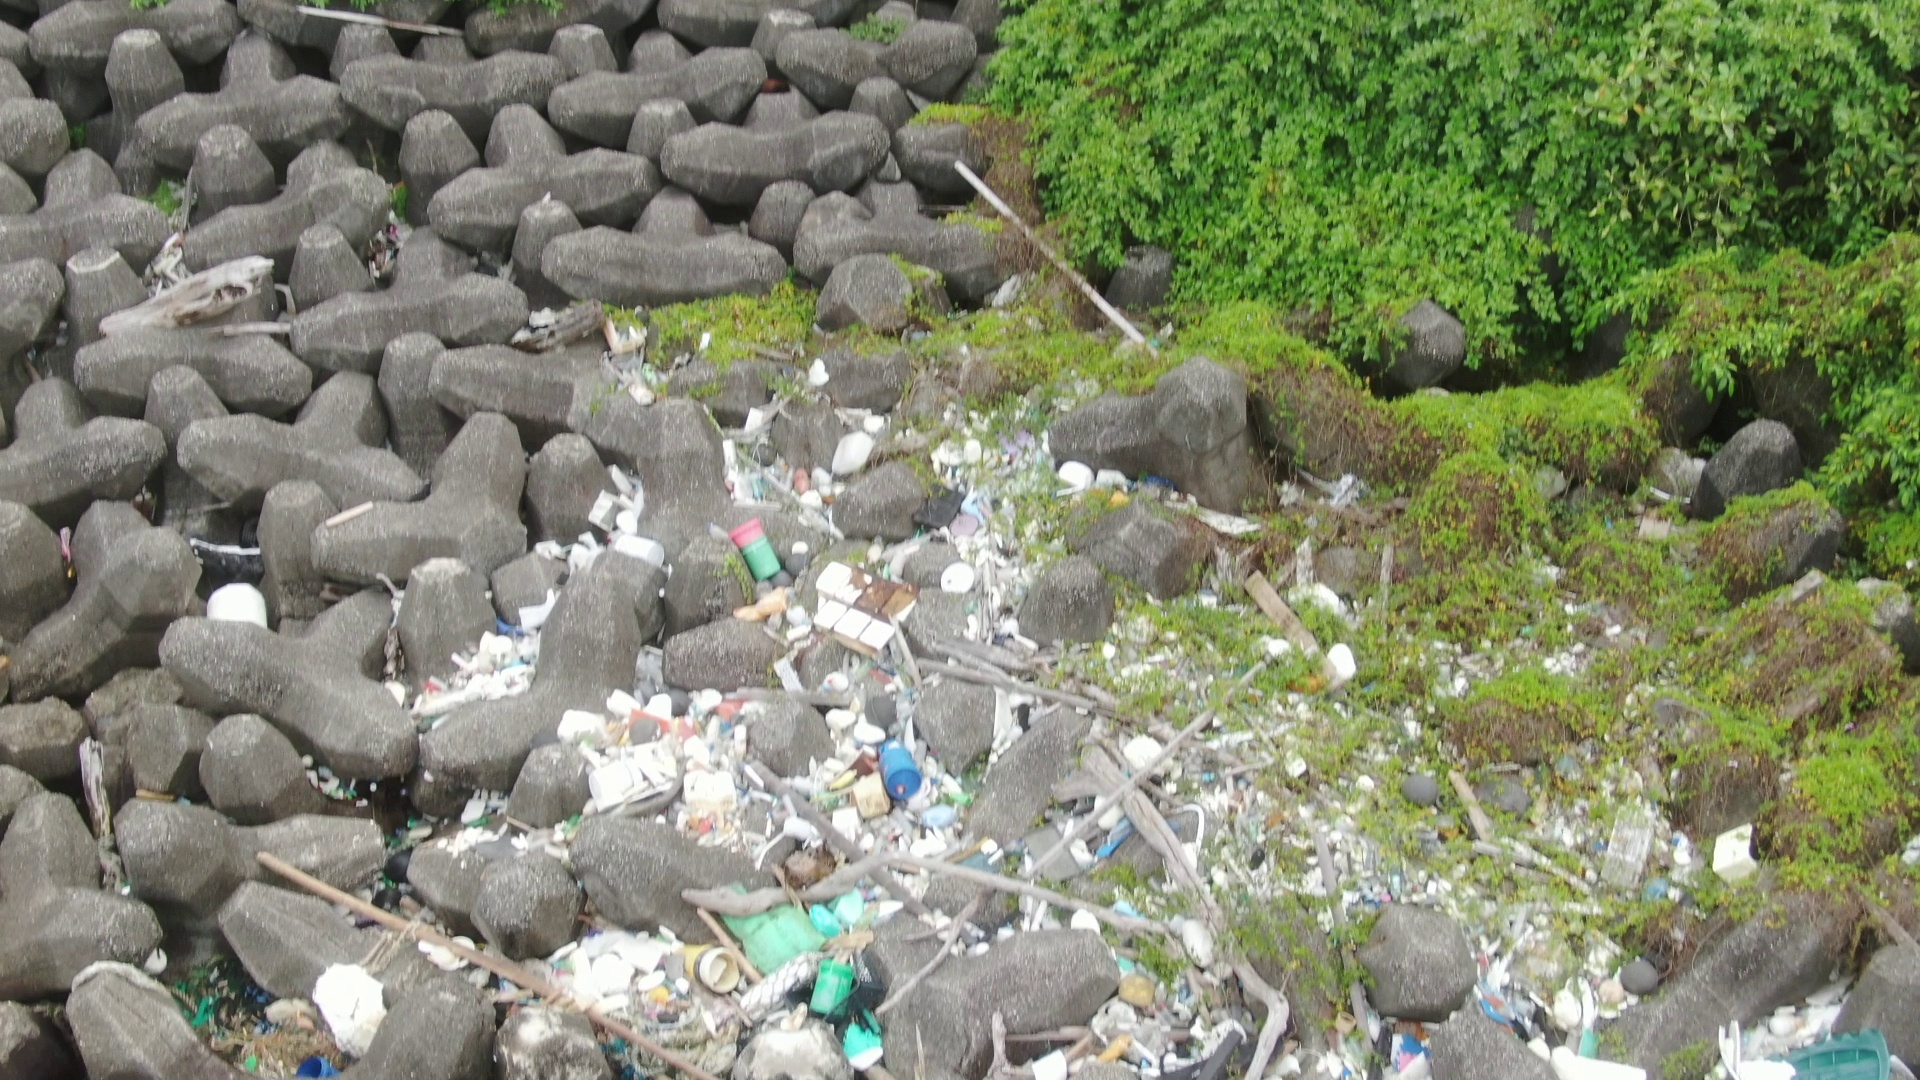garbage: (411, 352, 1276, 1080), (150, 951, 389, 1080), (1468, 927, 1660, 1080), (287, 740, 414, 919), (1596, 795, 1766, 906), (1712, 982, 1904, 1080), (1246, 560, 1373, 699), (1350, 992, 1440, 1080)
